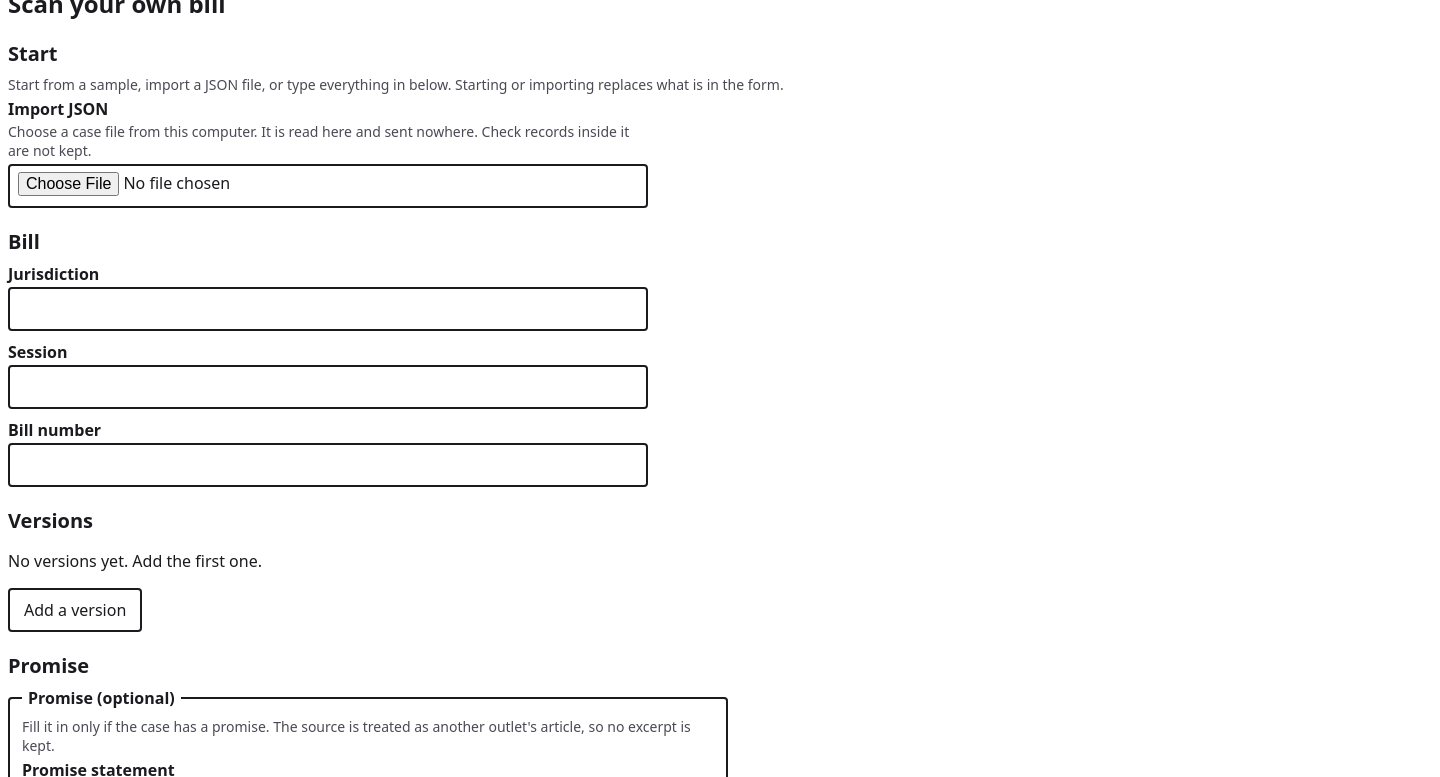
the form › puts messages for a record that points at a left-out record on that record's row
Click the button "Add a version": click(75, 610) 8,588 -> 142,632
(page scrolled)
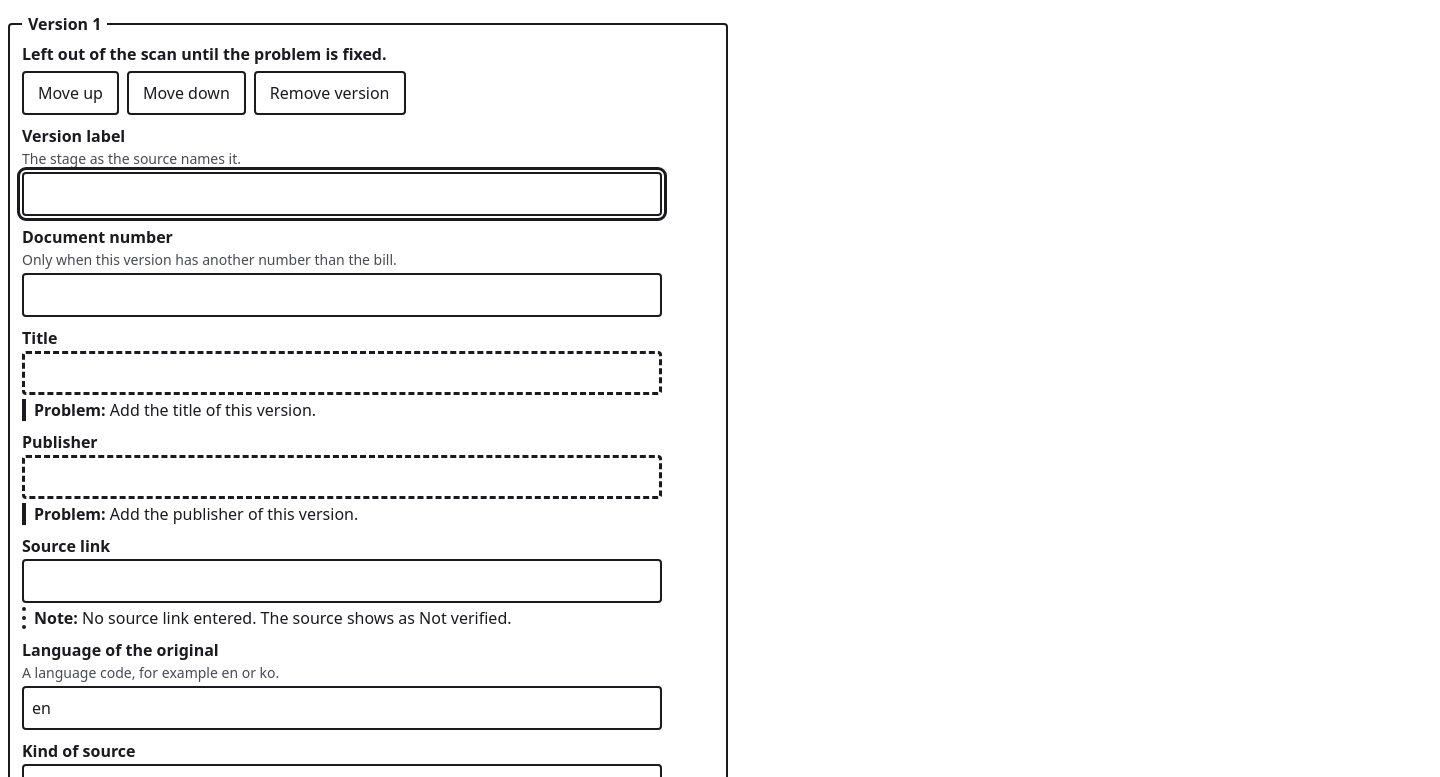
In the field labelled "Title": (342, 373) 22,351 -> 662,395, type "Synthetic title"
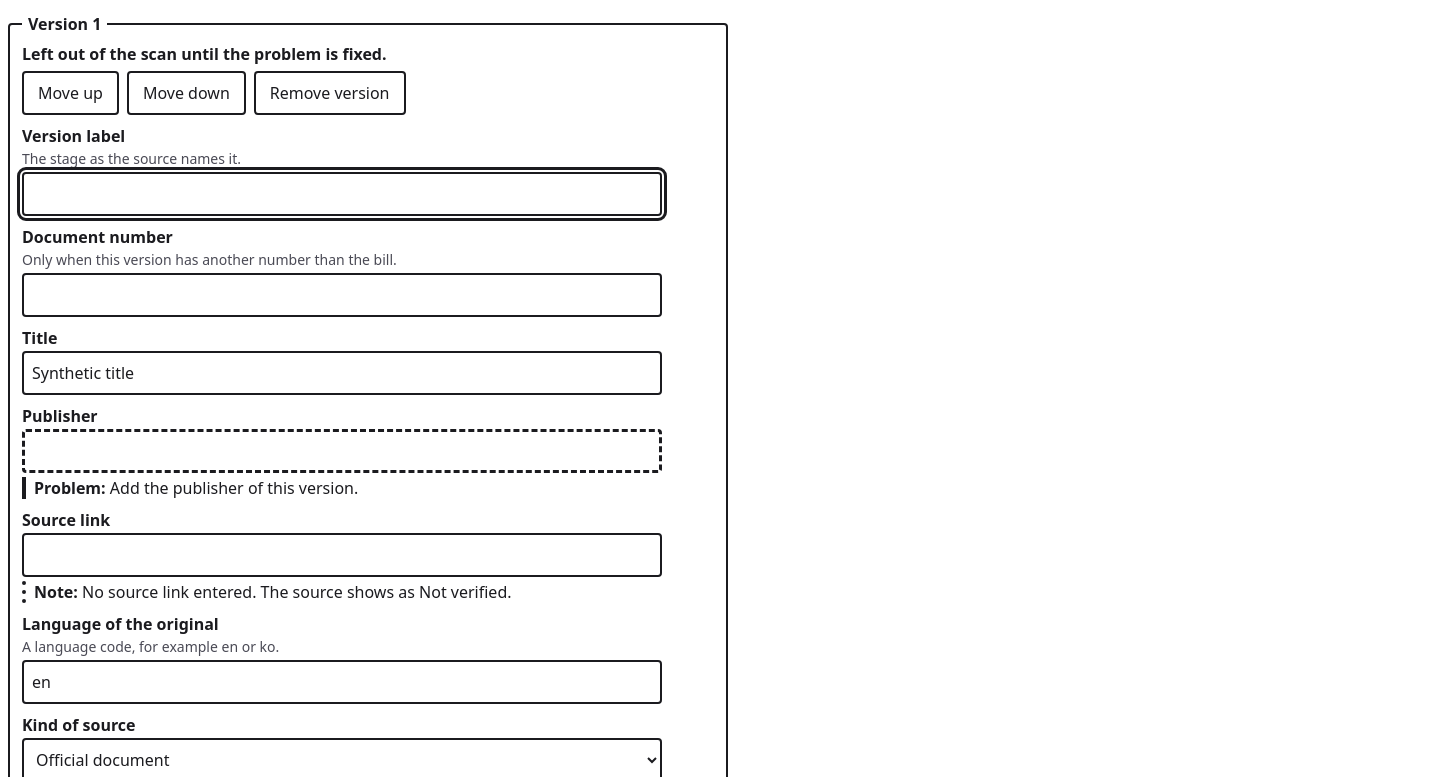
In the field labelled "Publisher": (342, 451) 22,429 -> 662,473, type "Synthetic publisher"
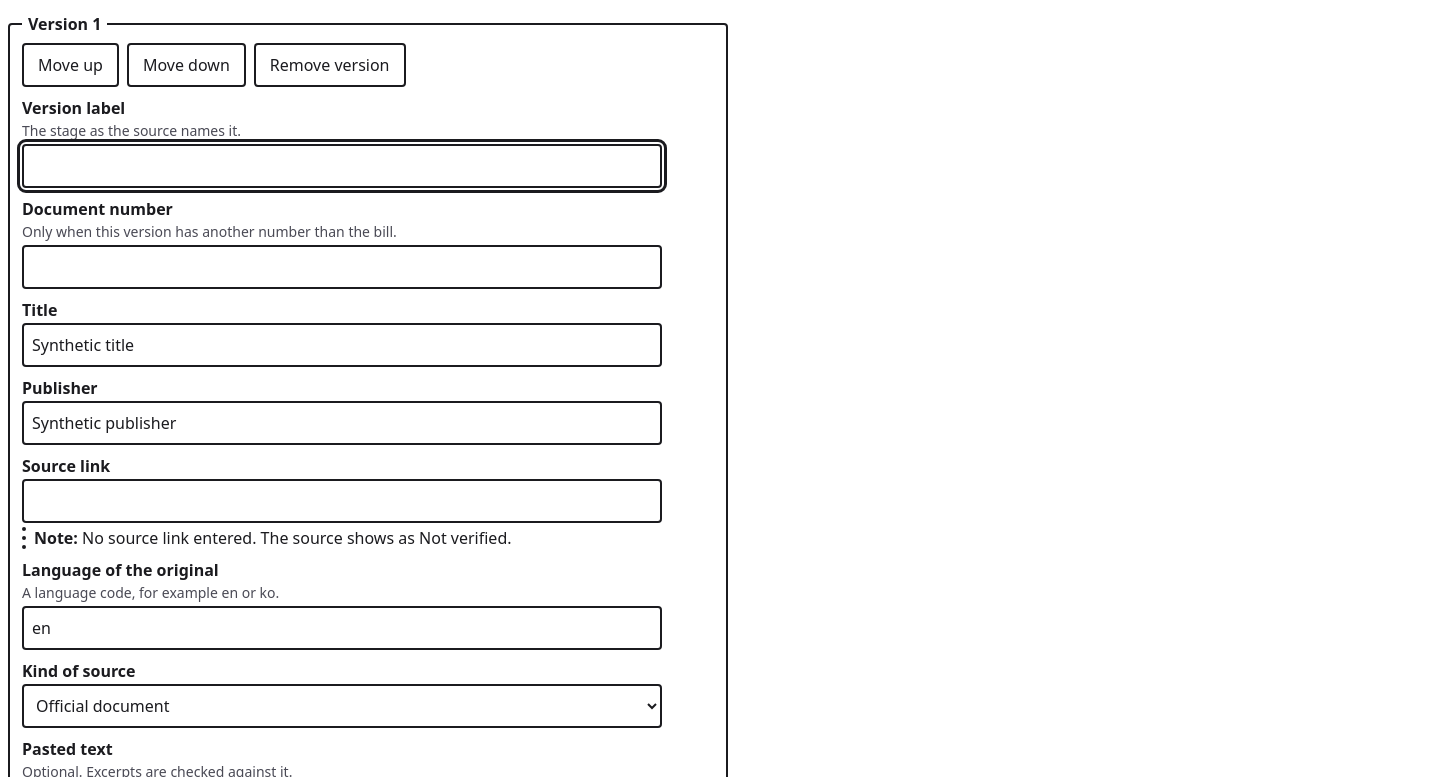
In the field labelled "Source link": (342, 501) 22,479 -> 662,523, type "nope"
(page scrolled)
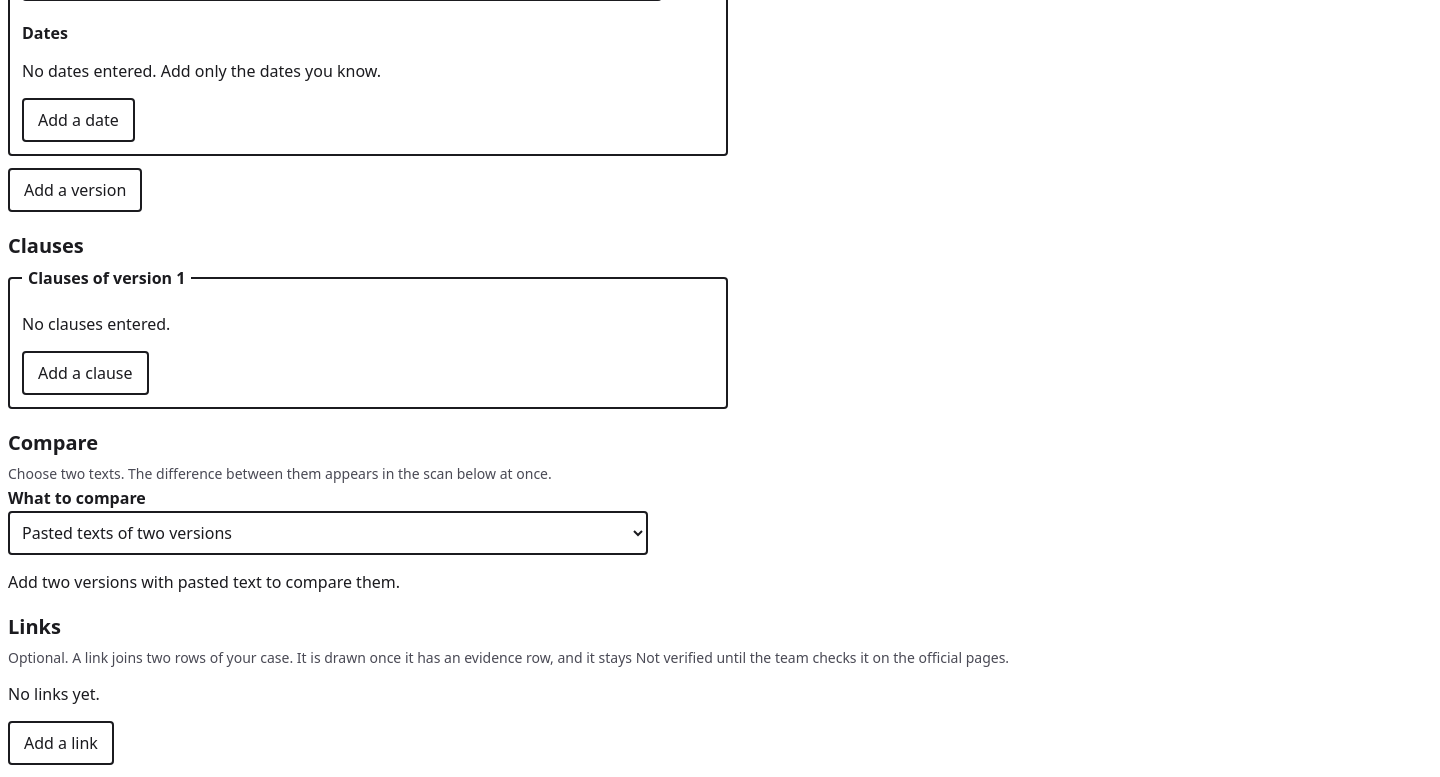
Click the button named "Add a clause (version 1)": click(85, 373) 22,351 -> 149,395
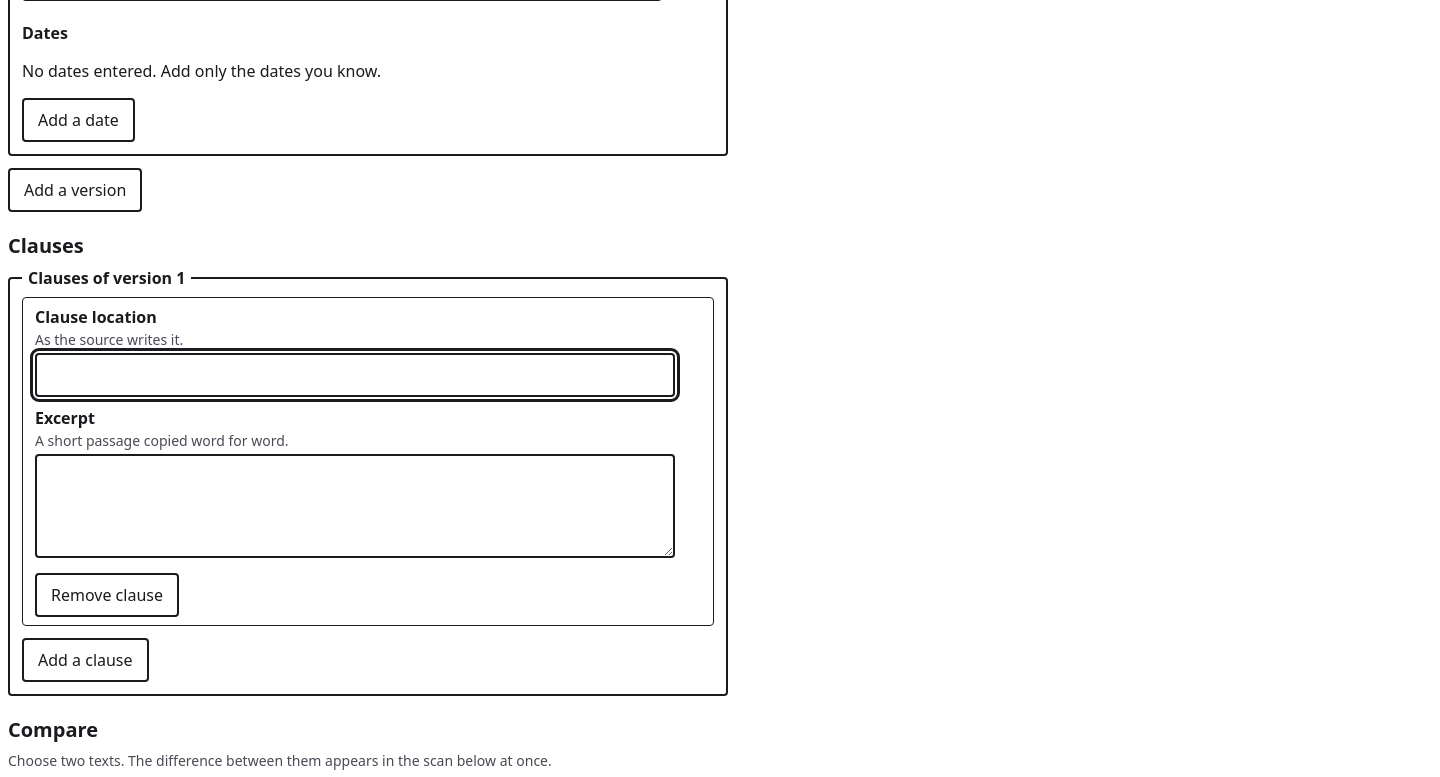
In the field labelled "Clause location": (355, 375) 35,353 -> 675,397, type "Sec. 1"
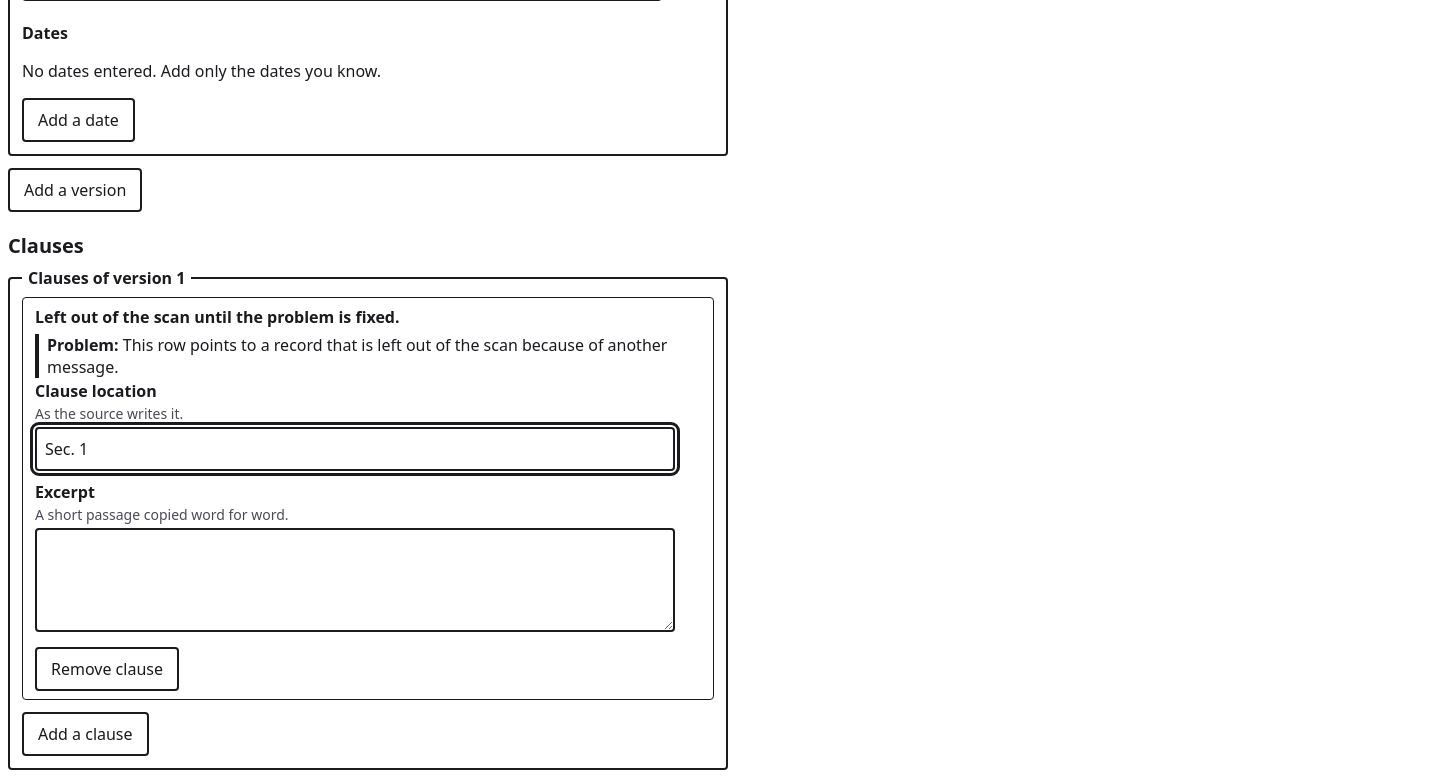
Result: the list item "This row points to a record that is left out of the scan because of another message." is shown at 47,334 -> 667,378
Result: the text "Left out of the scan until the problem is fixed." is shown at 35,306 -> 400,328
